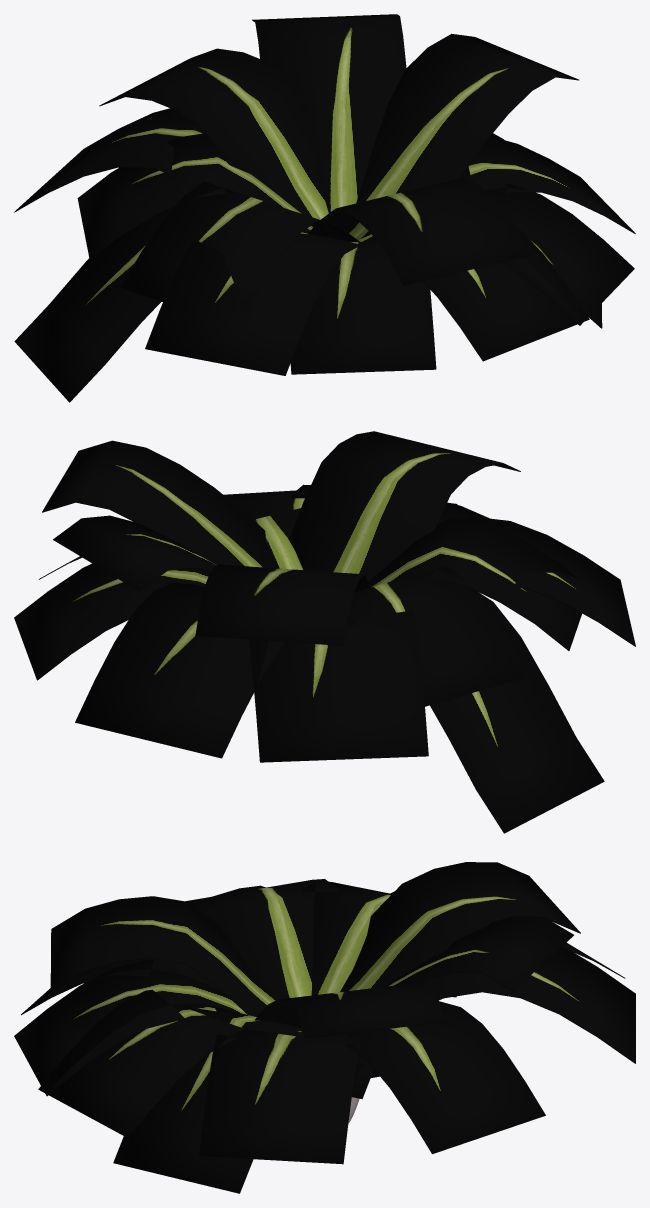
Rendered from SpiderPlant.glb.
3 views of the same model, one above another, from view 1: azimuth 30°, elevation 25°; view 2: azimuth 150°, elevation 25°; view 3: azimuth 270°, elevation 25° (orthographic). The views are drawn at different scales.
Visible parts, largest first — view 1: Spider Plant Pot; view 2: Spider Plant Pot; view 3: Spider Plant Pot.
Boxes of the visible parts, <box> form: Spider Plant Pot: <box>14,14,635,402</box>; Spider Plant Pot: <box>14,431,635,833</box>; Spider Plant Pot: <box>14,862,635,1193</box>.
Bounding box in the file's own units: 0.7518 × 0.3059 × 0.7618.
2 materials, 2 textured.
